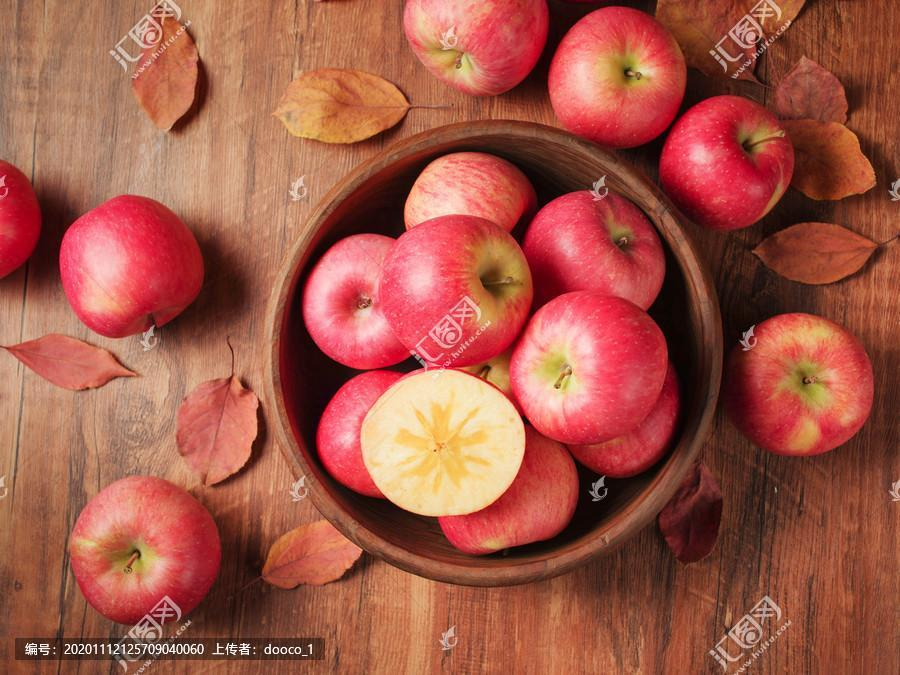apple: (510, 294, 680, 442), (63, 472, 222, 630), (721, 310, 875, 458), (58, 194, 207, 339), (543, 5, 690, 149), (385, 220, 527, 363), (657, 92, 795, 234), (438, 430, 582, 555), (297, 231, 414, 370), (526, 186, 665, 301), (400, 1, 547, 98), (401, 149, 535, 232)
